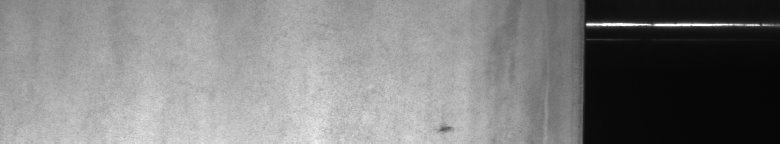fi: (435, 119, 456, 136)
